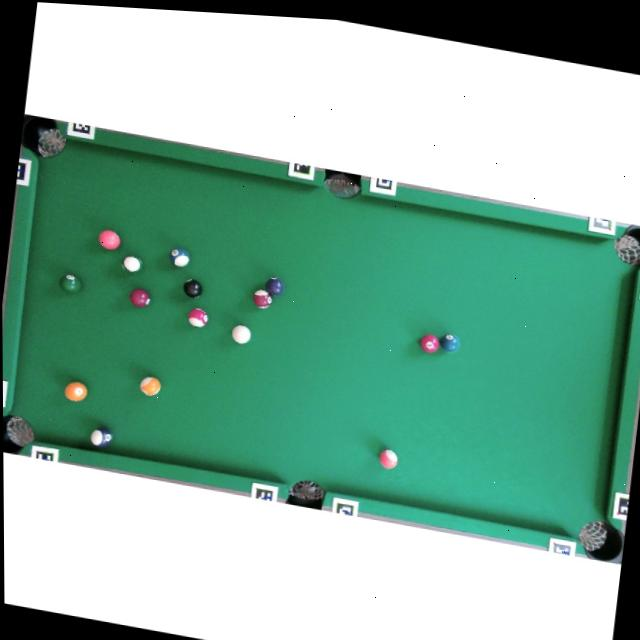cue ball: (230, 323, 251, 345)
other: (63, 379, 87, 404), (120, 252, 145, 276), (58, 272, 82, 295), (138, 374, 162, 397), (97, 228, 121, 251), (90, 425, 113, 448), (128, 286, 151, 309), (168, 245, 190, 269), (187, 306, 209, 328), (264, 275, 285, 297), (419, 332, 440, 354), (252, 288, 273, 310), (182, 278, 203, 299), (378, 447, 398, 469), (439, 332, 459, 353)
